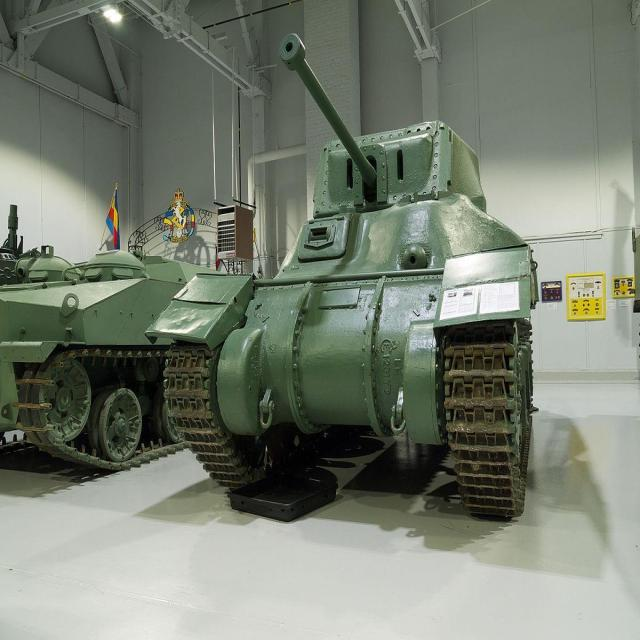Tanks: (169, 98, 546, 524), (3, 198, 172, 474)
